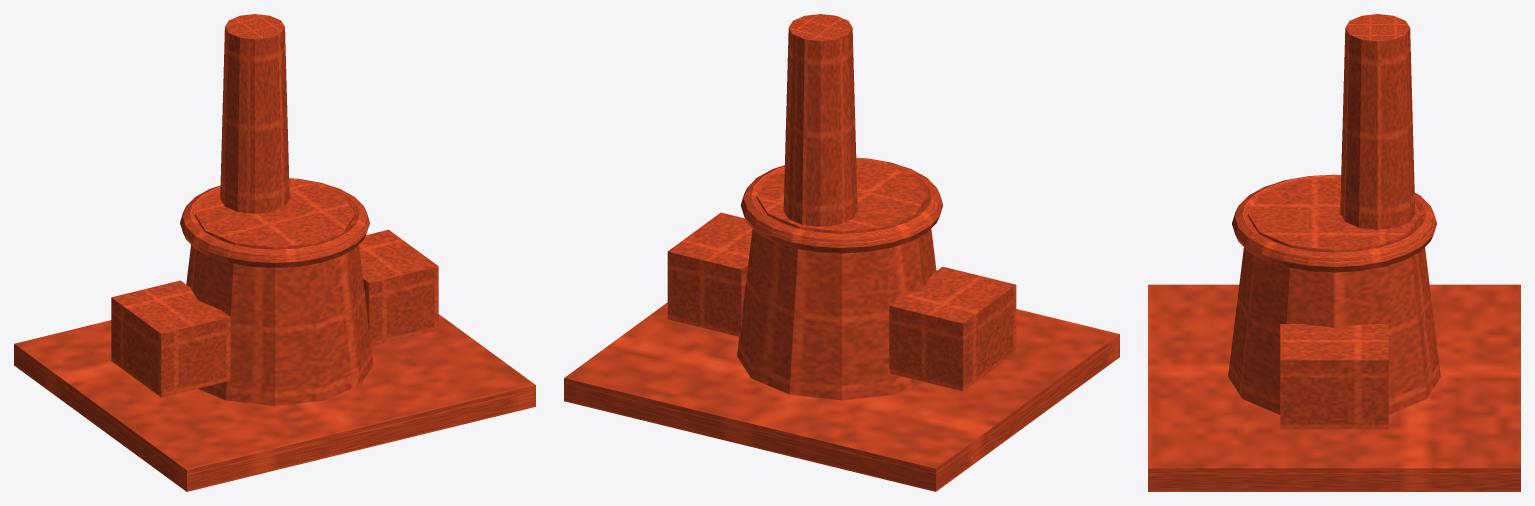
Rendered from ember_forge_01.glb.
The picture shows the model from 3 angles, left to right: view 1: azimuth 30°, elevation 25°; view 2: azimuth 150°, elevation 25°; view 3: azimuth 270°, elevation 25°; orthographic projection. The views are drawn at different scales.
Visible parts, largest first — view 1: Foundation, Furnace, Chimney, Bellows, Bellows.001, FurnaceRim; view 2: Foundation, Furnace, Chimney, Bellows, Bellows.001, FurnaceRim; view 3: Foundation, Furnace, Chimney, Bellows.001, FurnaceRim.
Part boxes in pixels (x1=…): Foundation: x1=14, y1=314, x2=535, y2=491; Furnace: x1=186, y1=181, x2=373, y2=405; Chimney: x1=220, y1=14, x2=289, y2=213; Bellows: x1=111, y1=280, x2=230, y2=397; Bellows.001: x1=359, y1=229, x2=438, y2=346; FurnaceRim: x1=180, y1=178, x2=369, y2=268; Foundation: x1=564, y1=302, x2=1119, y2=491; Furnace: x1=737, y1=161, x2=936, y2=400; Chimney: x1=783, y1=14, x2=857, y2=226; Bellows: x1=889, y1=266, x2=1016, y2=391; Bellows.001: x1=667, y1=212, x2=752, y2=336; FurnaceRim: x1=740, y1=157, x2=943, y2=253; Foundation: x1=1148, y1=284, x2=1520, y2=491; Furnace: x1=1228, y1=177, x2=1440, y2=414; Chimney: x1=1340, y1=14, x2=1415, y2=229; Bellows.001: x1=1280, y1=324, x2=1388, y2=428; FurnaceRim: x1=1232, y1=174, x2=1436, y2=272.
Bounding box in the file's own units: 4.03 × 3.8 × 3.45.
1 material, 1 textured.
